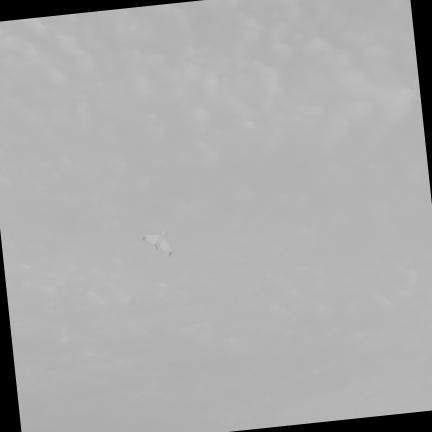Shahed: (140, 230, 173, 258)
